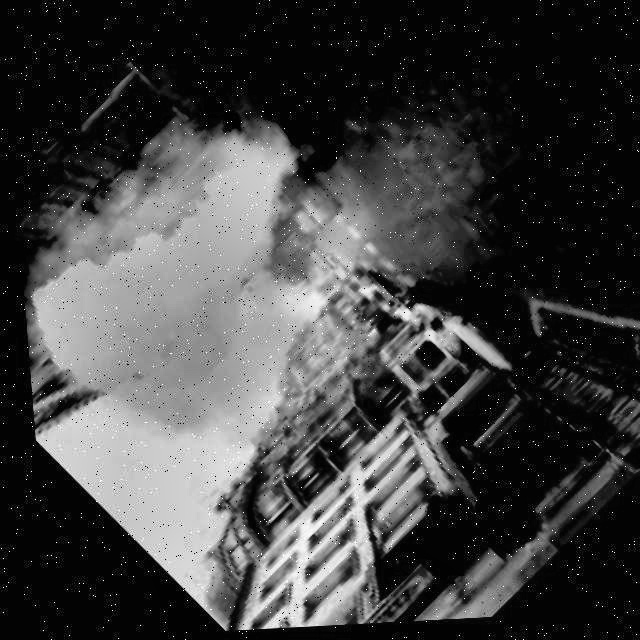Smoke: (14, 27, 477, 564)
